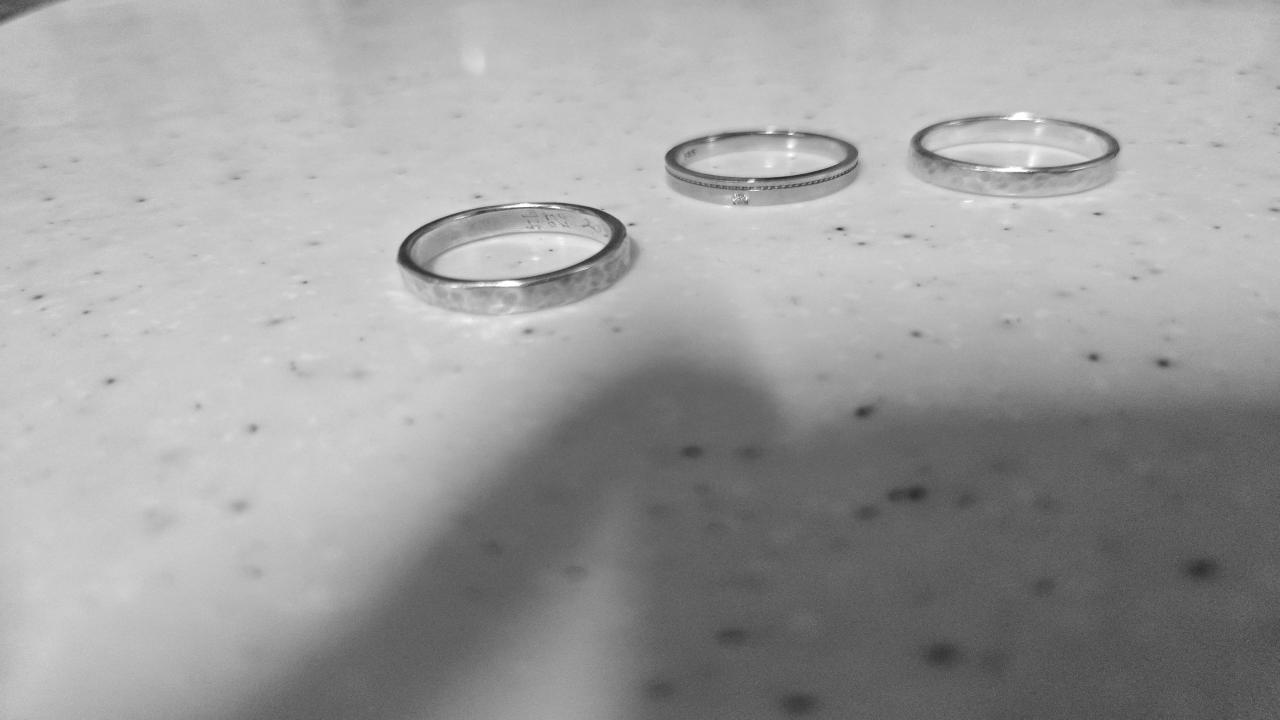ring: (395, 202, 631, 314)
